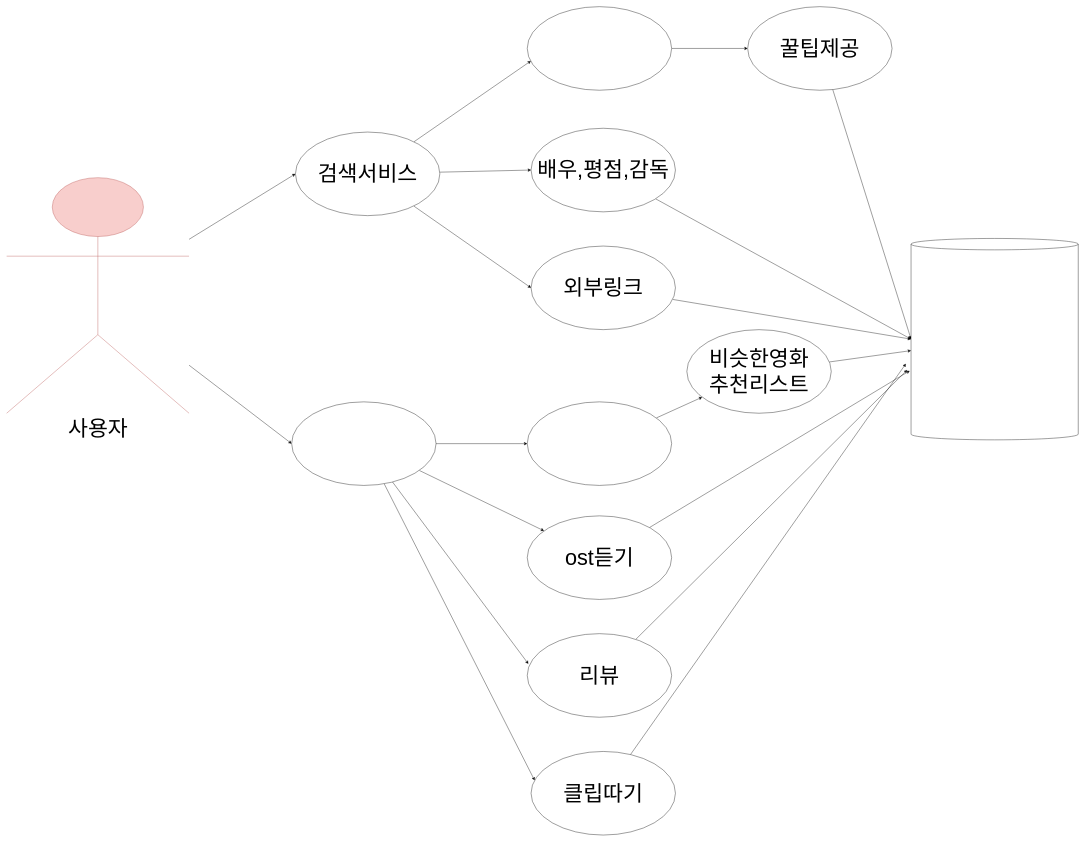
Some shapes in this 1085 by 842 pixel diagram are drawn without their labels. The shapes that lost their labels are listed below. From the top down, each one's centre as x and y in pixels, then its label:
At point (599, 48): "상영관/OTT".
At point (994, 339): "Table".
At point (363, 443): "영화선택".
At point (599, 443): "좋아요".
